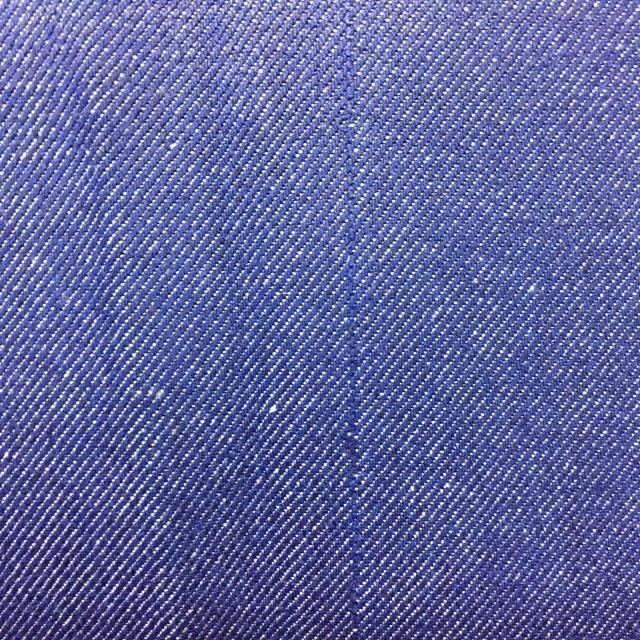Line: (335, 0, 363, 640)
